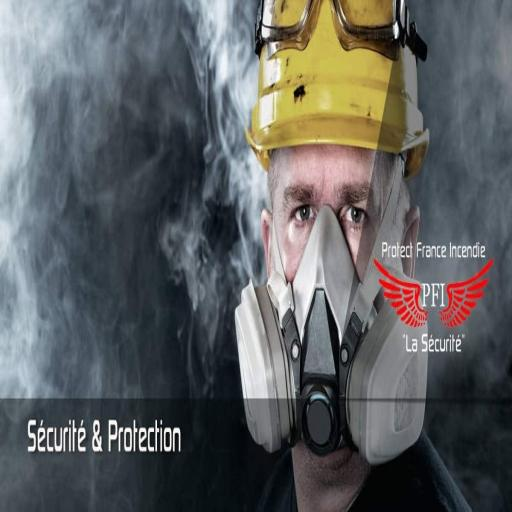mask: (226, 226, 435, 456)
